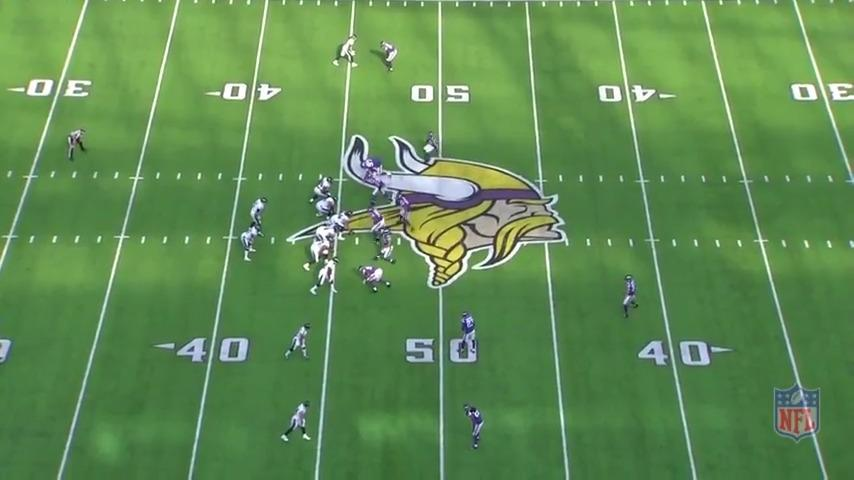defense: (464, 401, 487, 453), (459, 311, 481, 363), (359, 264, 394, 296), (368, 171, 397, 207), (392, 189, 415, 234), (621, 272, 643, 319), (366, 205, 393, 243), (373, 226, 396, 266), (358, 158, 393, 181), (423, 129, 443, 166), (379, 39, 399, 75)
oline: (304, 236, 341, 272), (315, 224, 343, 259), (310, 174, 337, 207), (317, 193, 340, 224), (330, 209, 352, 240)
qb: (248, 196, 267, 237)
ref: (64, 127, 88, 166)
skill: (279, 401, 314, 447), (282, 323, 313, 363), (311, 257, 342, 297), (332, 34, 359, 70), (240, 224, 262, 264)
